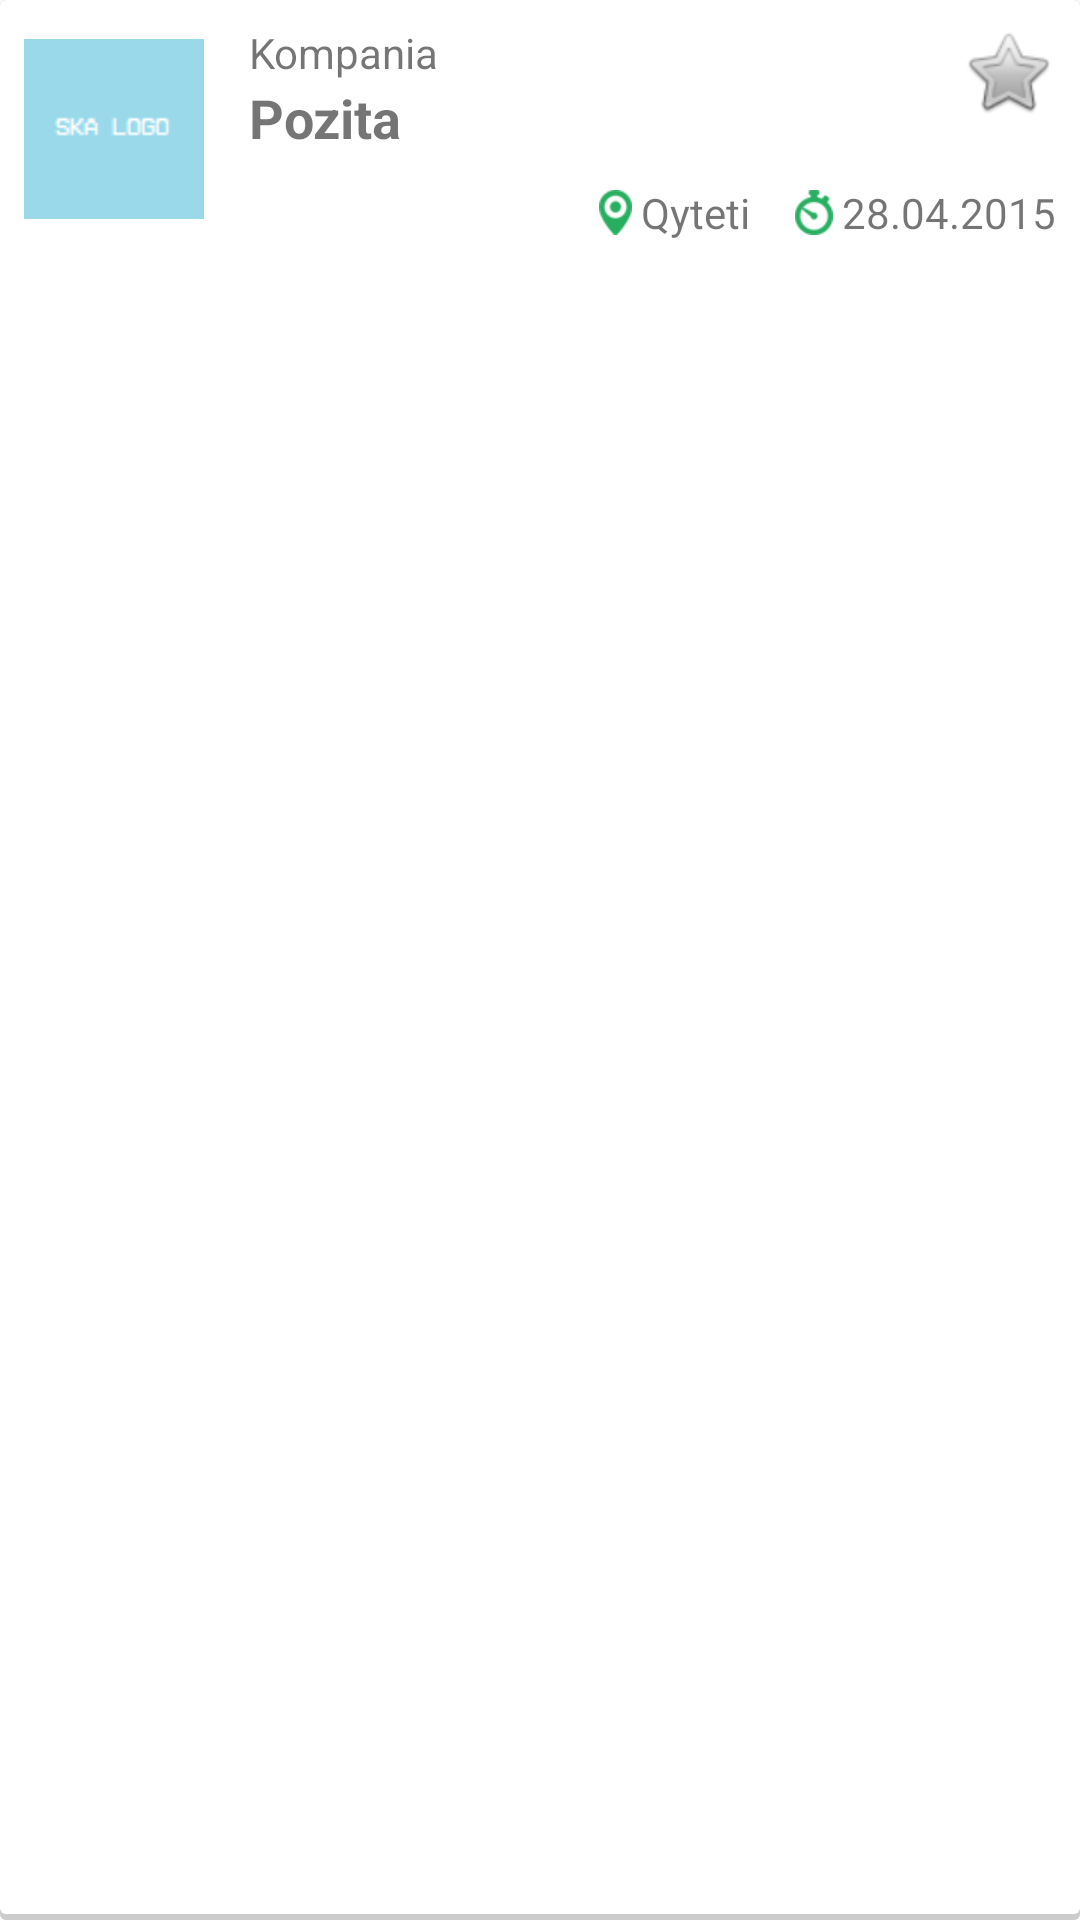

Screen size 1080w x 1920h. Icon name, then its center in pixels as point (x, y):
clocktime: point (814, 212)
location: point (615, 212)
star: point (1009, 73)
